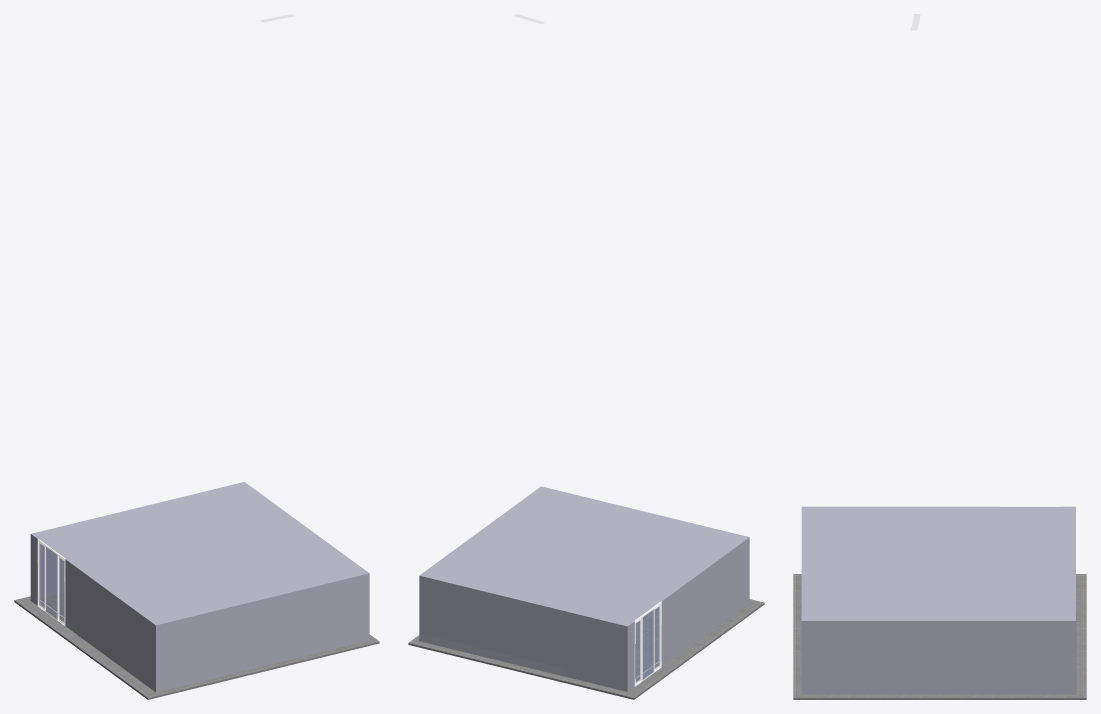
File: background.gltf
The picture shows the model from 3 angles, left to right: view 1: azimuth 30°, elevation 25°; view 2: azimuth 150°, elevation 25°; view 3: azimuth 270°, elevation 25°; orthographic projection. The views are drawn at different scales.
Parts seen in each view (by area): view 1: top, front, Cube.004, ground, Window.003, back, Window.001; view 2: top, back, Cube.004, ground, Window.003, Window.001; view 3: top, right, ground.
Part boxes in pixels (x1,y1,x2,y2): top: (31,482,368,625); front: (156,573,369,692); Cube.004: (30,534,155,692); ground: (14,593,379,699); Window.003: (40,544,63,620); back: (40,544,64,598); Window.001: (37,539,65,625); top: (420,486,749,626); back: (419,575,627,691); Cube.004: (627,537,749,691); ground: (408,599,764,699); Window.003: (636,607,658,681); Window.001: (634,601,661,686); top: (801,506,1075,620); right: (801,621,1076,694); ground: (793,574,1086,699).
Bounding box in the file's own units: 322 × 799 × 322.
Materials: 7 (1 with a texture image).
